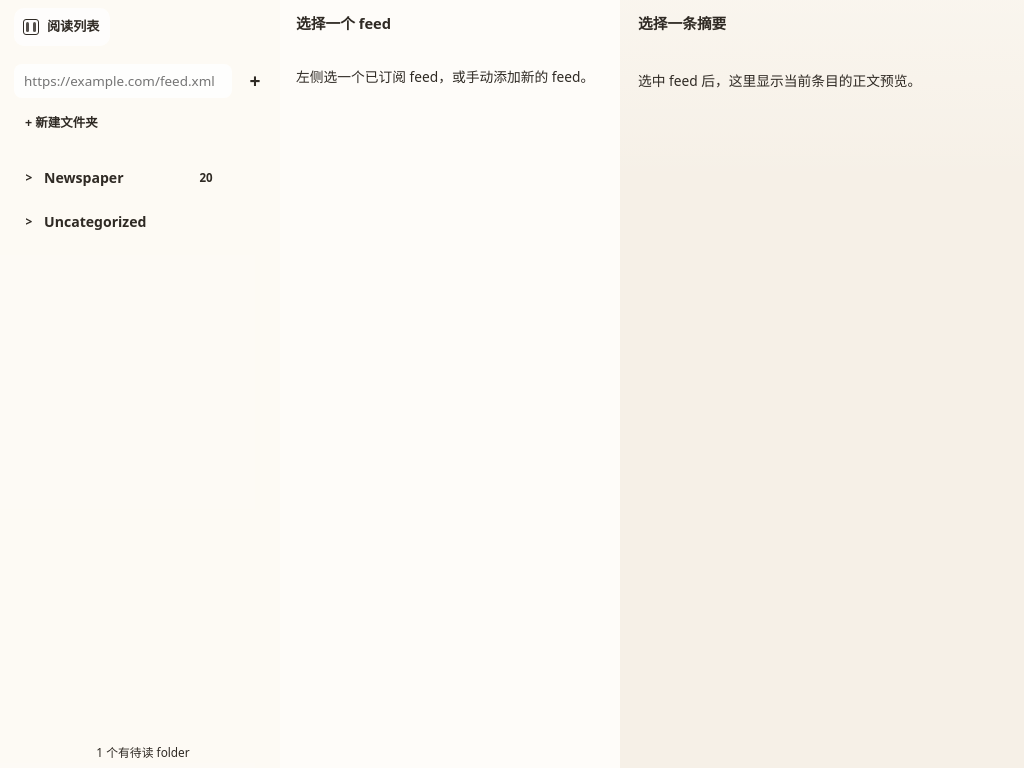
FeedDashboard › groups feeds into folders and keeps read feeds visible without empty counts
The width and height of the screenshot is (1024, 768).
Check: the text "Newspaper" is shown, box [44, 168, 124, 187]
Check: the text "Uncategorized" is shown, box [44, 212, 146, 231]
Click the button with aria-label "展开 Newspaper".
click(120, 178)  # box [14, 160, 226, 196]
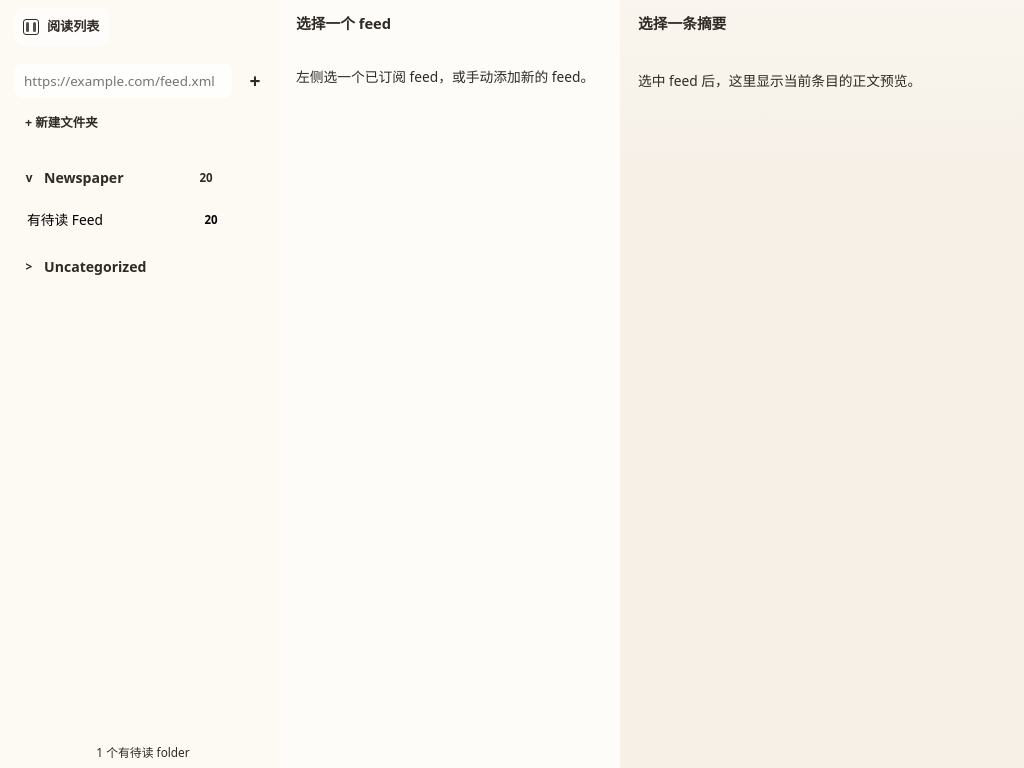
Click the button with aria-label "展开 Uncategorized".
click(138, 267)  # box [14, 249, 262, 285]
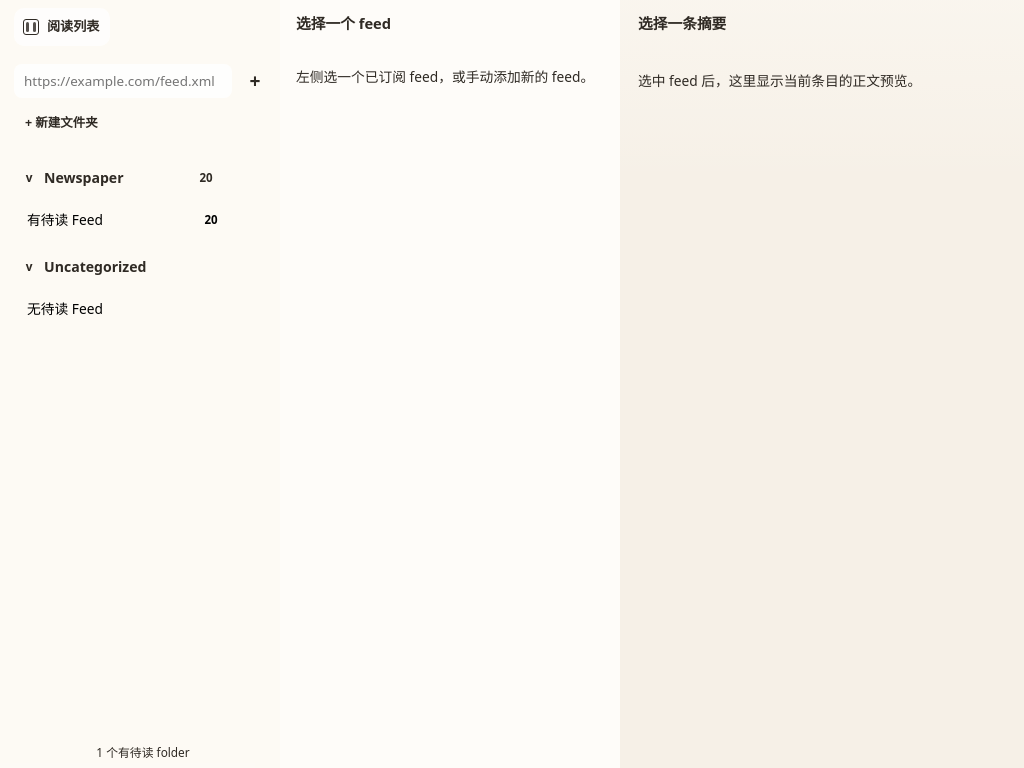
Check: the text "有待读 Feed" is shown, box [27, 211, 103, 229]
Check: the text named "20 条待读" is shown, box [204, 212, 218, 227]
Check: the text "无待读 Feed" is shown, box [27, 300, 103, 318]
